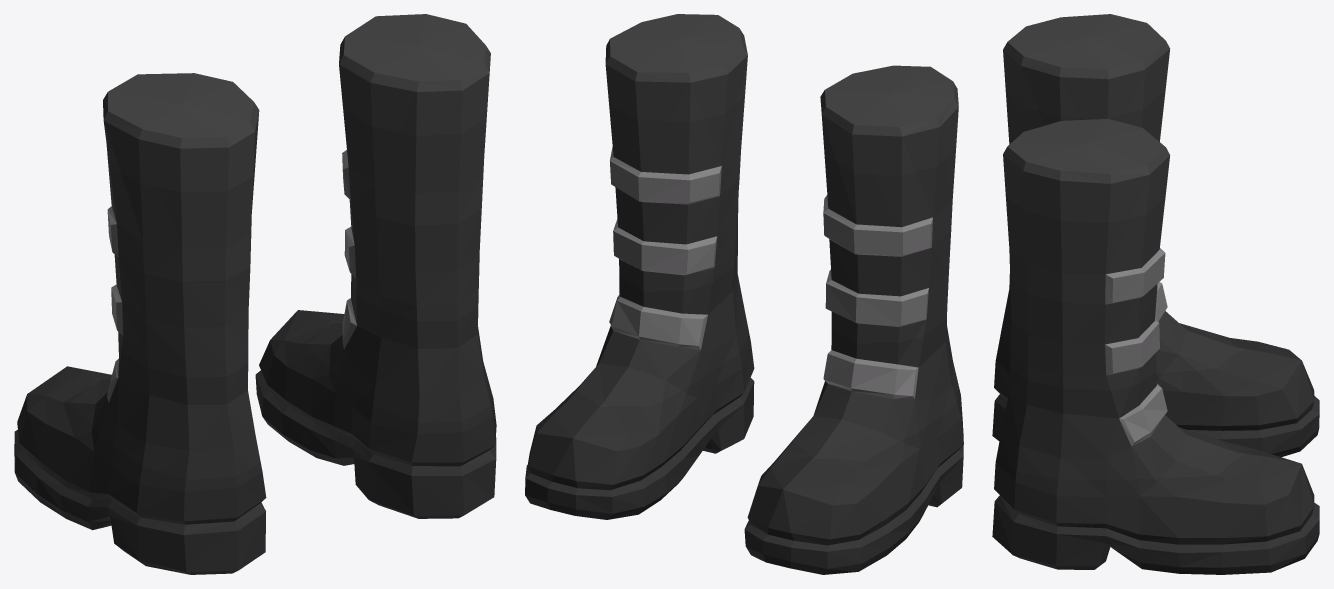
File: CharSkyKid_Feet_GothBoots.glb
3 renders of one model, left to right at view 1: azimuth 30°, elevation 25°; view 2: azimuth 150°, elevation 25°; view 3: azimuth 270°, elevation 25°, orthographic. The views are drawn at different scales.
Visible parts, largest first — view 1: CharSkyKid_Feet_GothBoots; view 2: CharSkyKid_Feet_GothBoots; view 3: CharSkyKid_Feet_GothBoots.
Part boxes in pixels (<box>): CharSkyKid_Feet_GothBoots: <box>14,14,496,574</box>; CharSkyKid_Feet_GothBoots: <box>525,14,963,574</box>; CharSkyKid_Feet_GothBoots: <box>992,14,1319,574</box>.
Bounding box in the file's own units: 2.97 × 3.29 × 2.42.
Materials: 1 (1 with a texture image).
